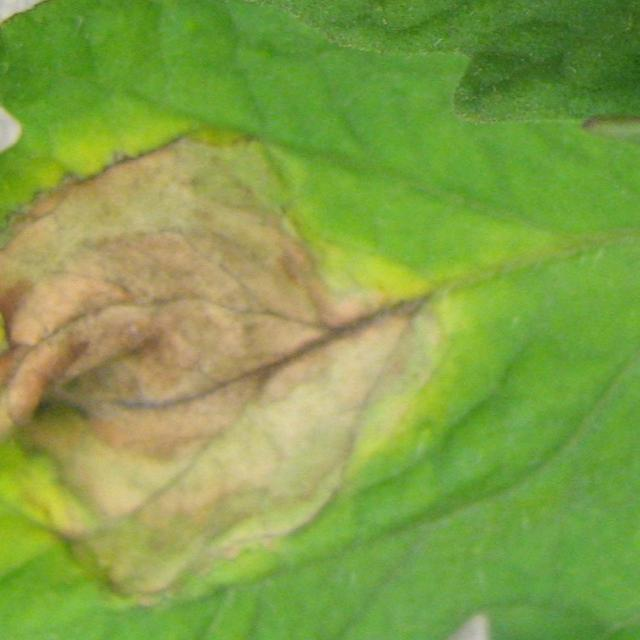Tomato leaf late blight: (0, 3, 640, 640), (0, 0, 640, 122)
